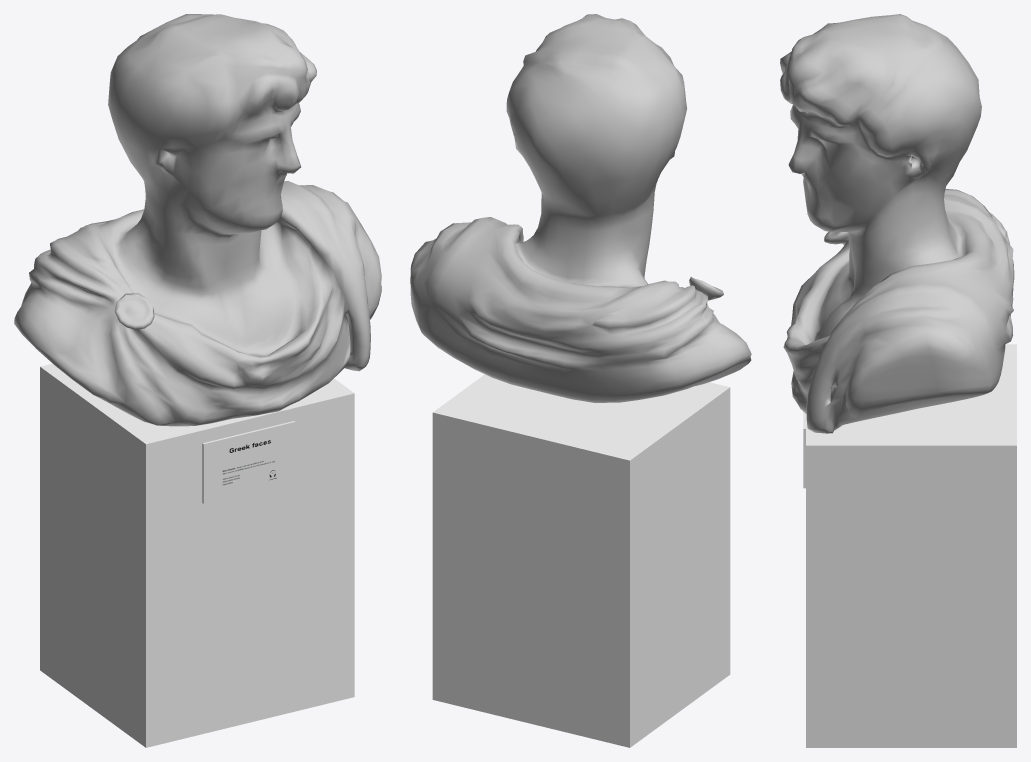
File: Statue 1.fbx
3 views of the same model, side by side, from view 1: azimuth 30°, elevation 25°; view 2: azimuth 150°, elevation 25°; view 3: azimuth 270°, elevation 25° (orthographic). The views are drawn at different scales.
Visible parts, largest first — view 1: Statue 1; view 2: Statue 1; view 3: Statue 1.
Part boxes in pixels (x1,y1,x2,y2): Statue 1: [14, 14, 381, 747]; Statue 1: [410, 14, 751, 747]; Statue 1: [780, 14, 1016, 747].
Bounding box in the file's own units: 101 × 194 × 62.12.
